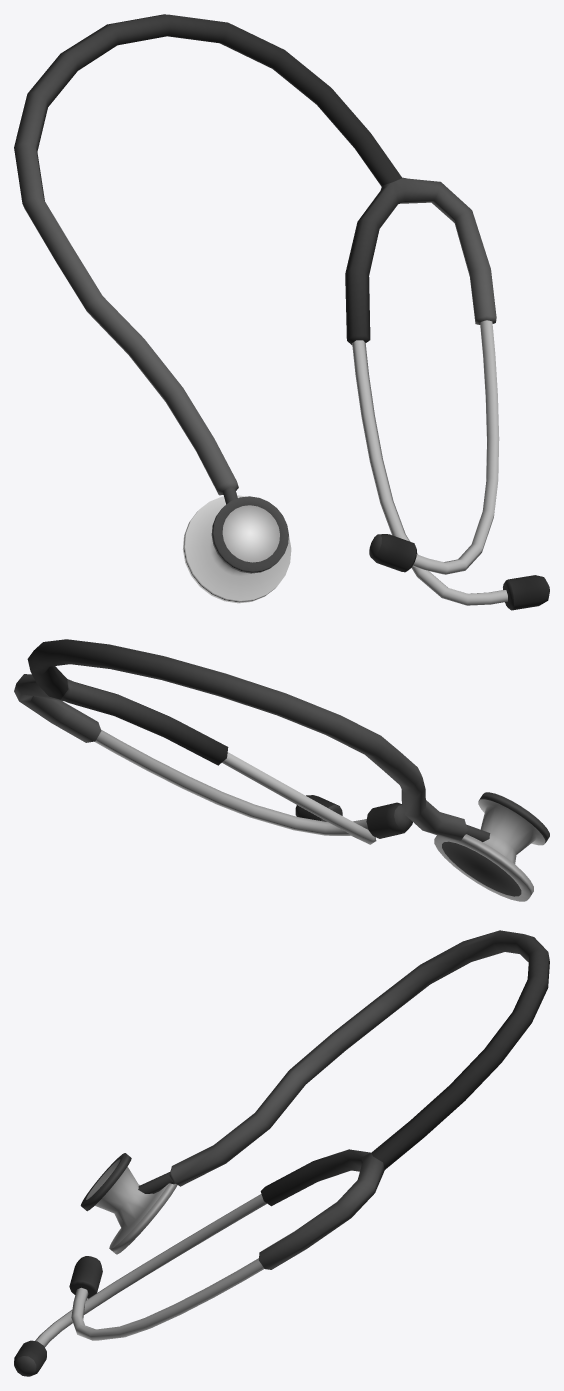
Rendered from stethoacope.fbx.
The picture shows the model from 3 angles, top to bottom: view 1: azimuth 30°, elevation 25°; view 2: azimuth 150°, elevation 25°; view 3: azimuth 270°, elevation 25°; orthographic projection. The views are drawn at different scales.
Visible parts, largest first — view 1: stethoscope; view 2: stethoscope; view 3: stethoscope.
Boxes of the visible parts, x1,y1,x2,y2 form: stethoscope: (14,14,549,610); stethoscope: (14,639,549,901); stethoscope: (14,930,549,1376).
Size of the model in its own units: 11.29 by 10.87 by 14.38.
1 material, 1 textured.
